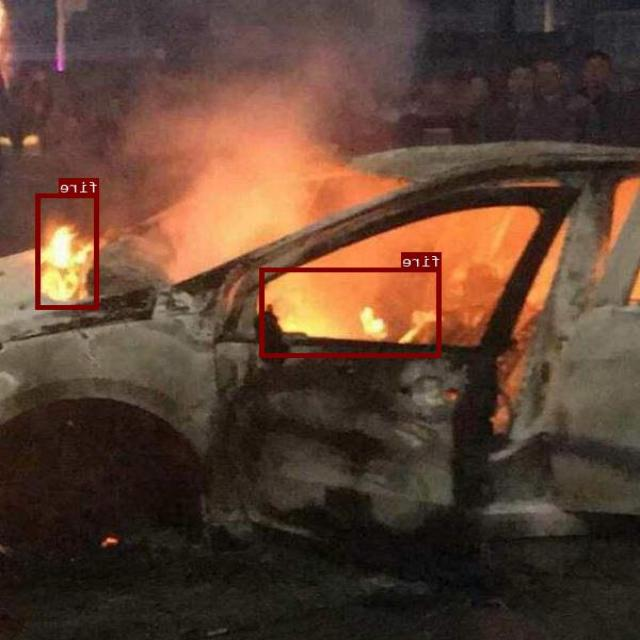fire: (262, 267, 442, 356), (37, 193, 100, 308)
